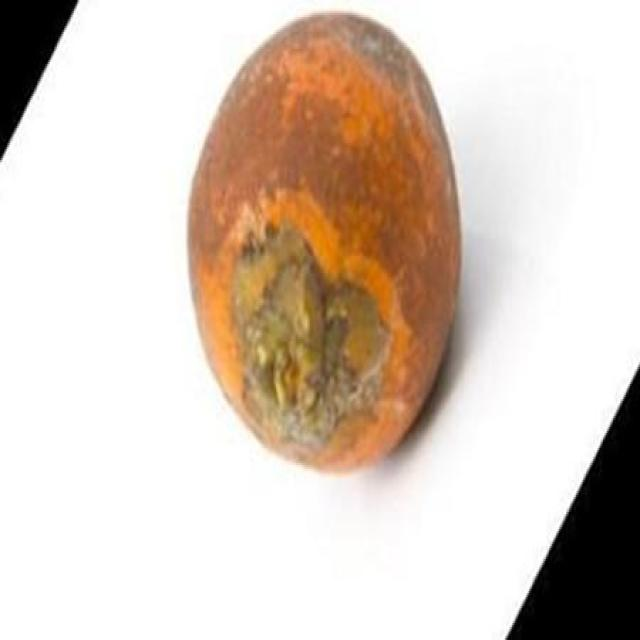good: (186, 15, 462, 478)
